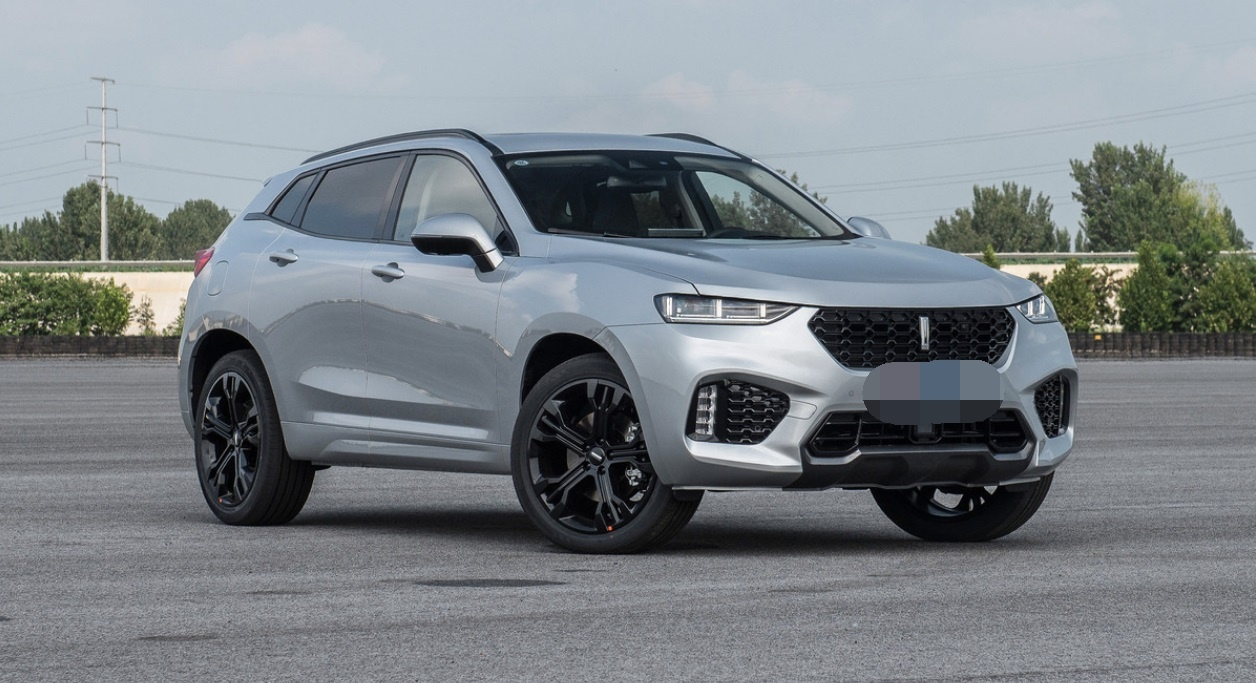SUV: (177, 123, 1087, 539)
